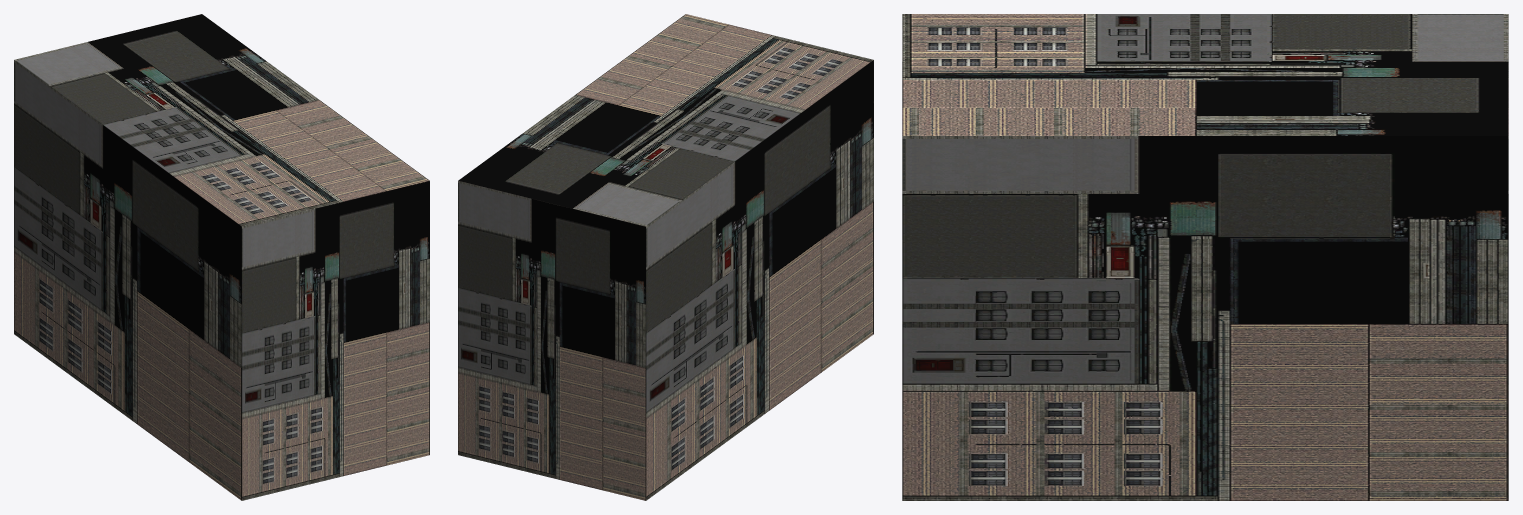
File: Building_005.DAE
The picture shows the model from 3 angles, left to right: view 1: azimuth 30°, elevation 25°; view 2: azimuth 150°, elevation 25°; view 3: azimuth 270°, elevation 25°; orthographic projection. The views are drawn at different scales.
Parts seen in each view (by area): view 1: bounds; view 2: bounds; view 3: bounds.
Boxes of the visible parts, x1=… form: bounds: x1=14, y1=14, x2=429, y2=500; bounds: x1=458, y1=14, x2=873, y2=500; bounds: x1=902, y1=14, x2=1508, y2=500.
Bounding box in the file's own units: 1138 × 2388 × 1586.
